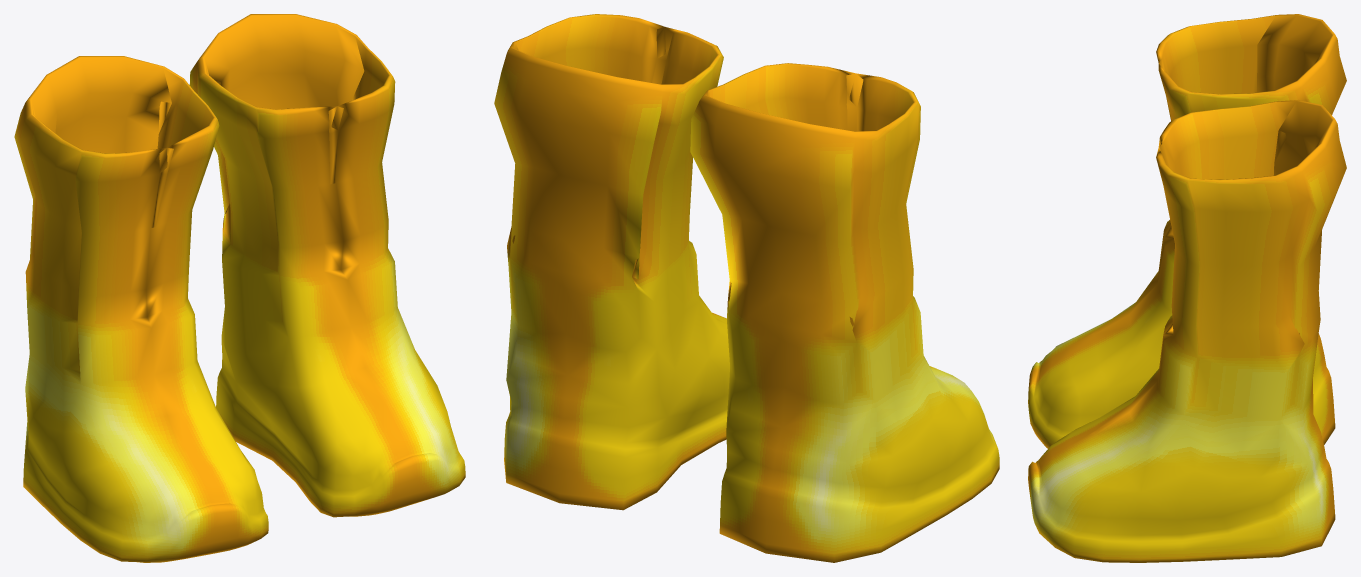
File: rubberBootSet.FBX
The picture shows the model from 3 angles, left to right: view 1: azimuth 30°, elevation 25°; view 2: azimuth 150°, elevation 25°; view 3: azimuth 270°, elevation 25°; orthographic projection. The views are drawn at different scales.
Visible parts, largest first — view 1: shoe_R, shoe_R01; view 2: shoe_R, shoe_R01; view 3: shoe_R01, shoe_R.
Part boxes in pixels (left/top/right/bottom): shoe_R: left=14, top=56, right=268, bottom=562; shoe_R01: left=189, top=14, right=465, bottom=517; shoe_R: left=690, top=63, right=999, bottom=562; shoe_R01: left=494, top=14, right=729, bottom=510; shoe_R01: left=1028, top=100, right=1346, bottom=562; shoe_R: left=1028, top=14, right=1346, bottom=448.
Bounding box in the file's own units: 27.3 × 28.5 × 20.62.
1 material, 1 textured.
